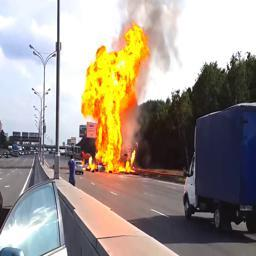fire: (80, 23, 151, 173)
